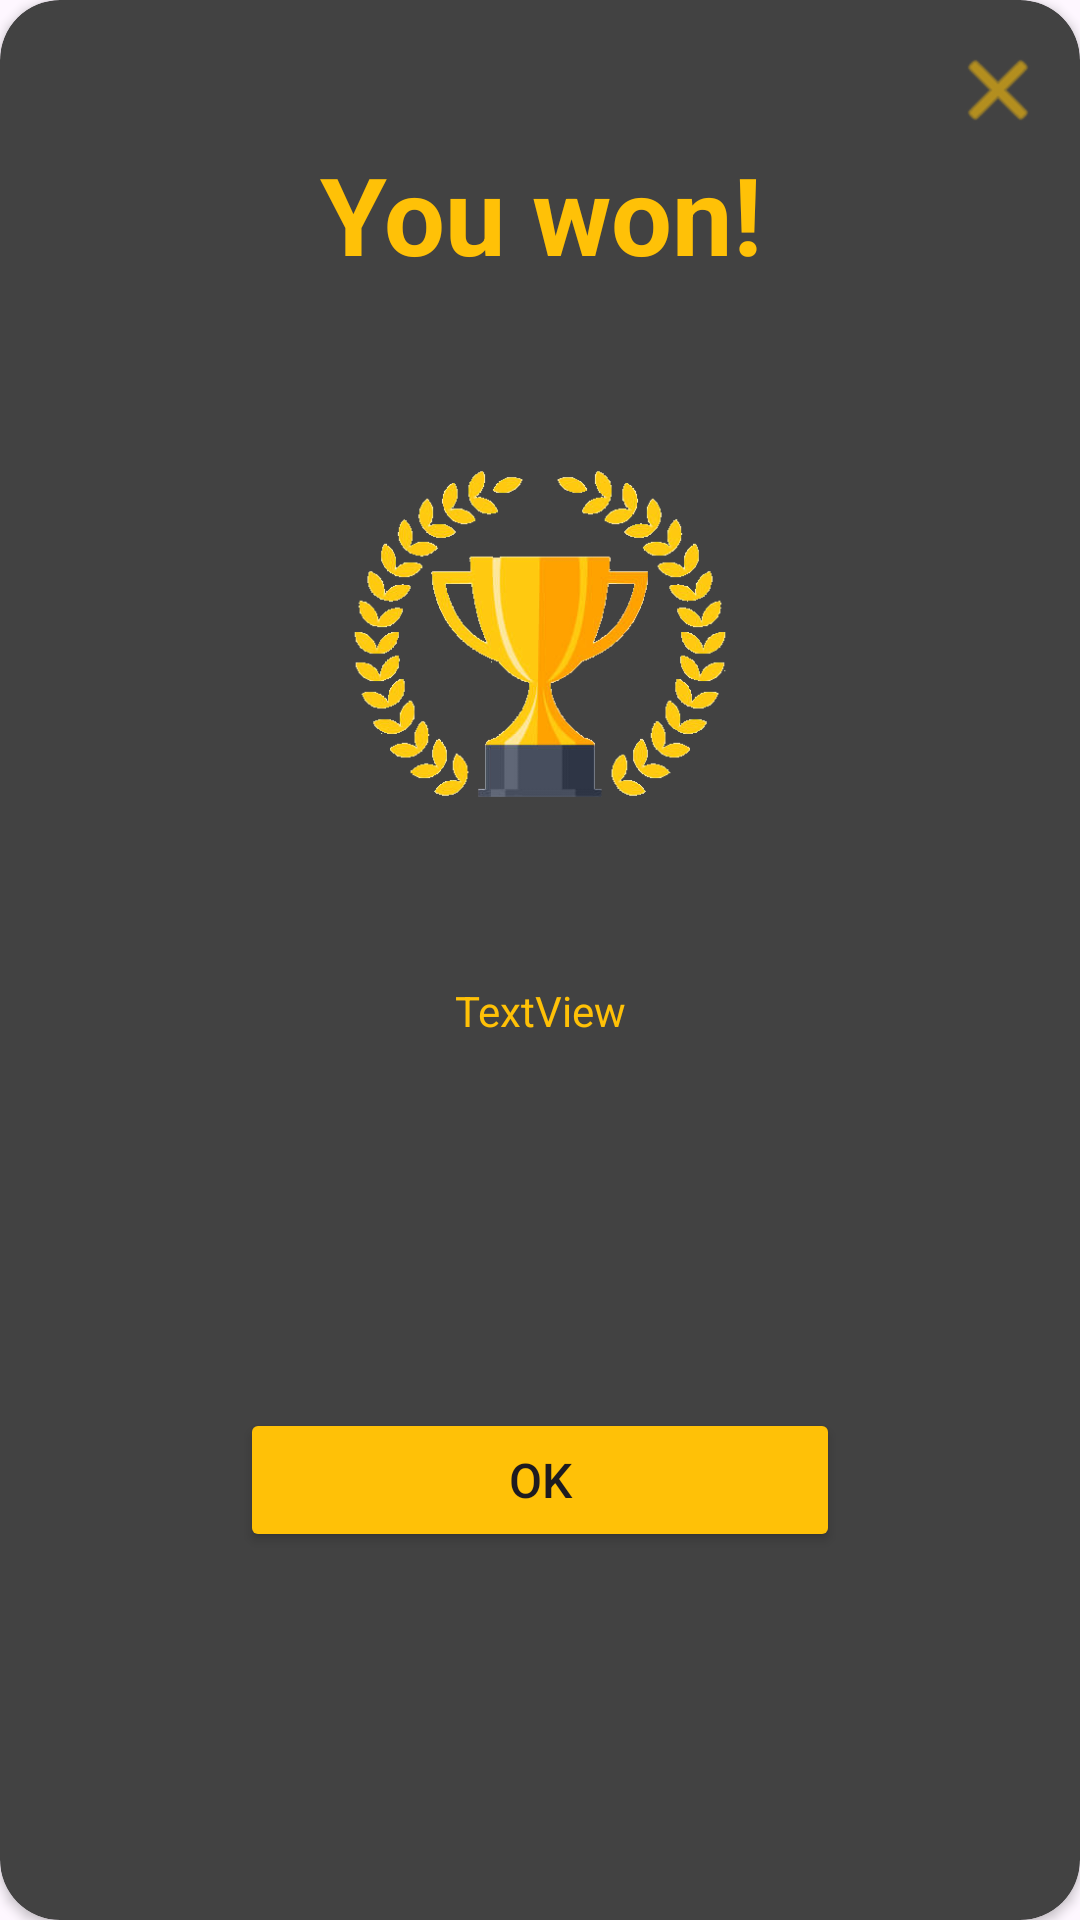

Screen size 1080px x 1920px. Icon name, then its center in pixels as (x,y):
close clear cancel: (998,90)
